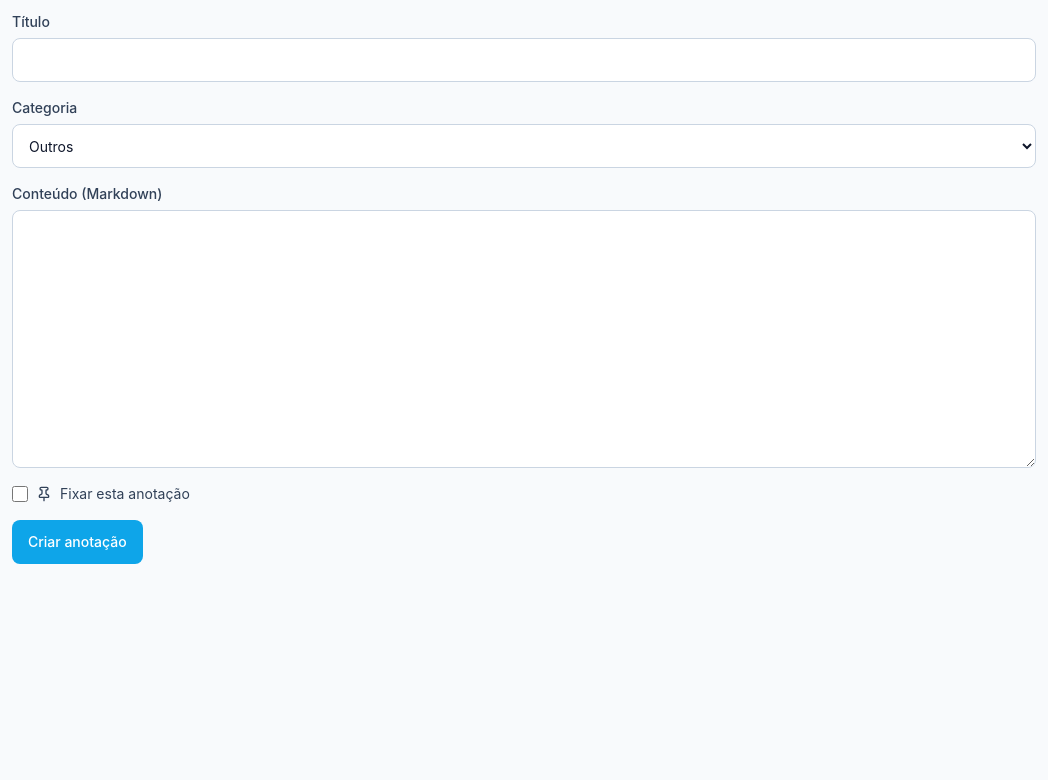
Scenario: NoteForm (integration) › does not submit when the title is empty
Click the button "Criar anotação". click: point(77, 542)
box: [12, 520, 143, 564]
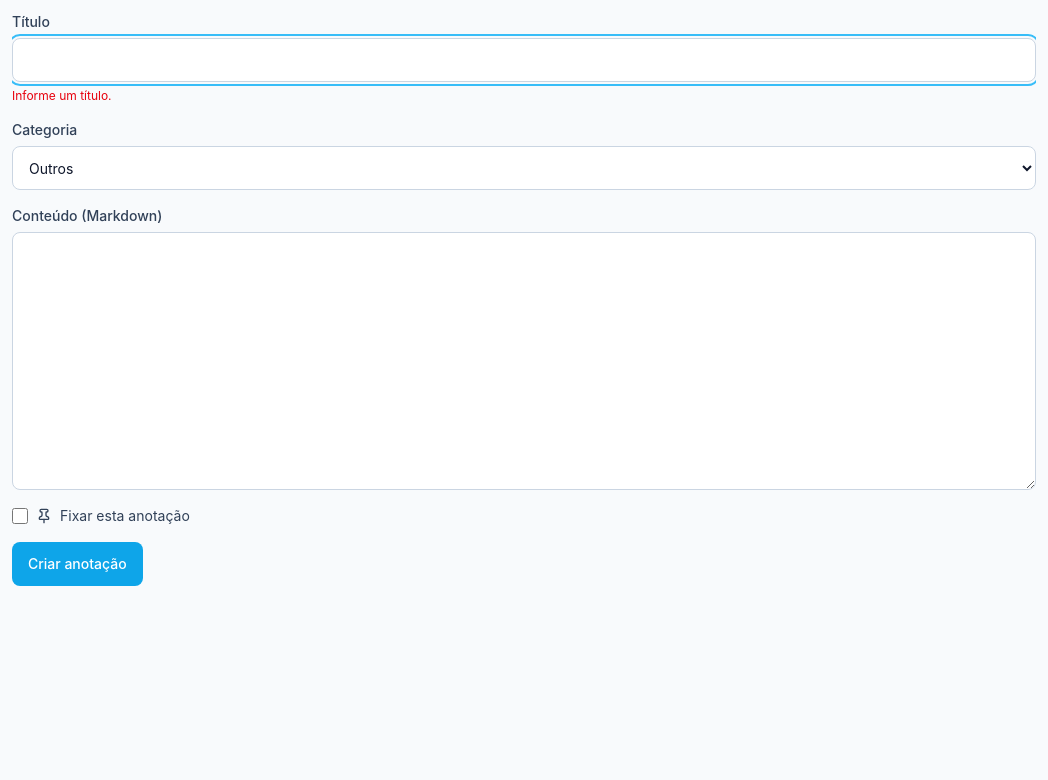
Check: the text "Informe um título." is shown, box [12, 88, 112, 103]
